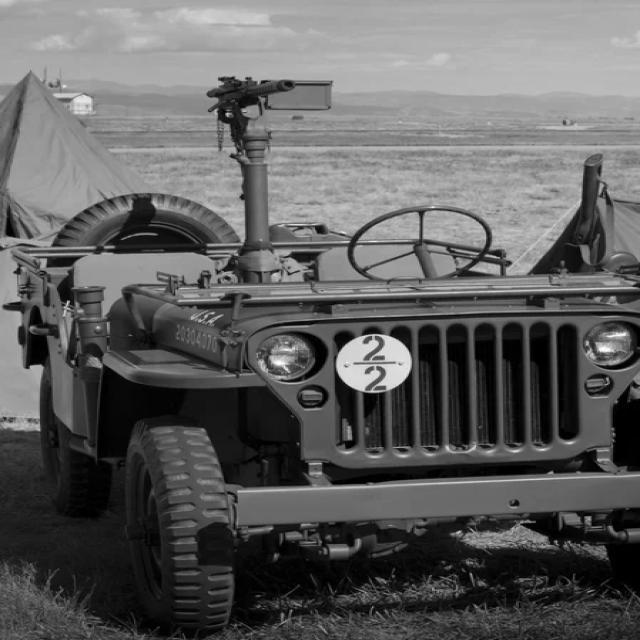Car: (3, 77, 640, 632)
